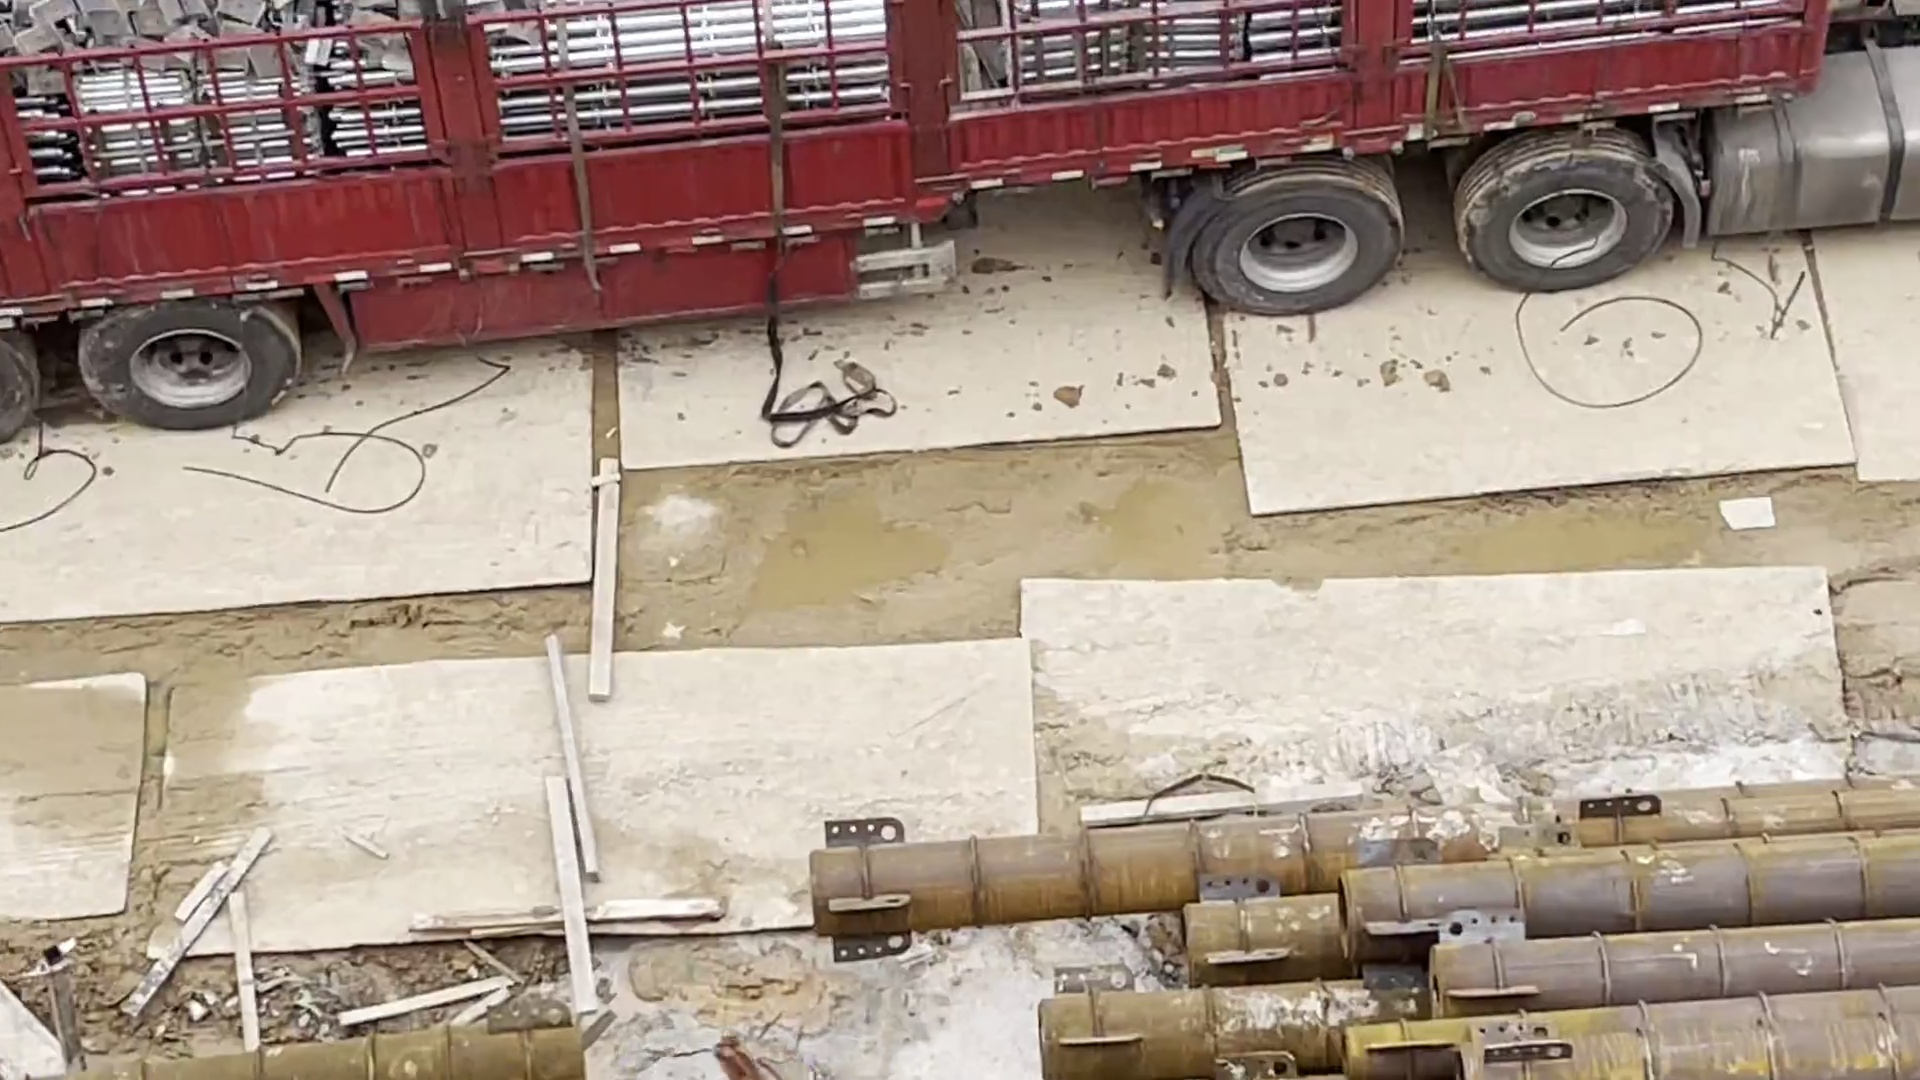scaffold: (69, 1, 1665, 182)
